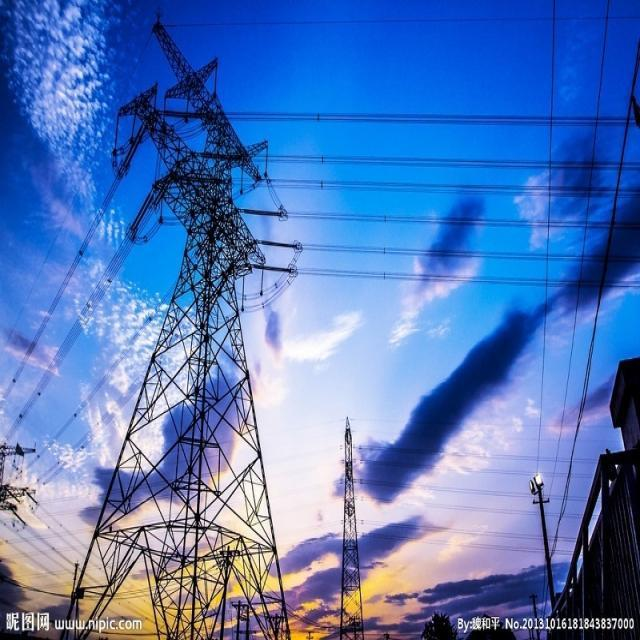non-critical vegetation: (71, 12, 297, 633), (327, 404, 383, 636)
